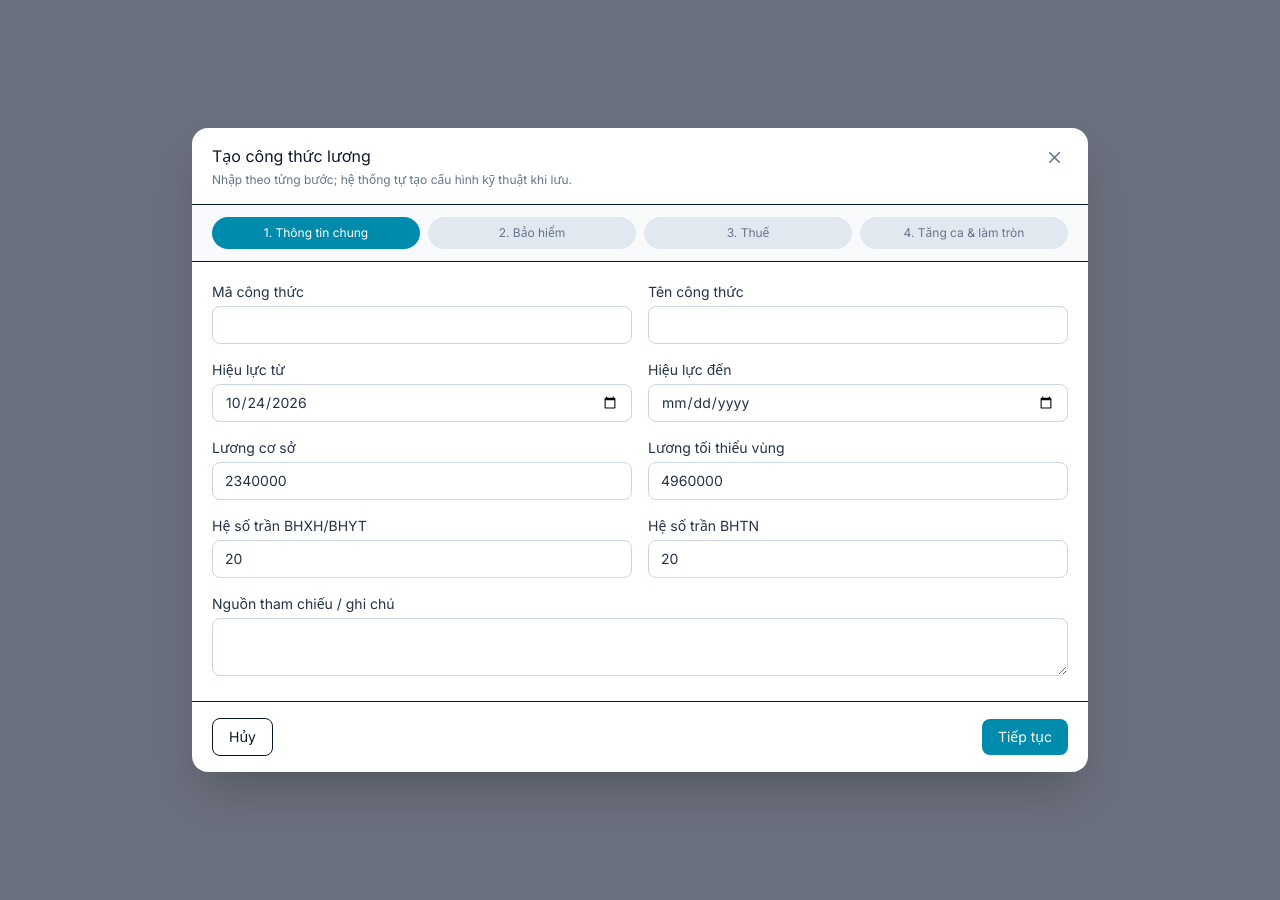
Test: PayrollPolicyFormModal › uses four guided steps and blocks invalid navigation
expect the button "1. Thông tin chung" is shown: met, box [212,217,420,249]
expect the button "4. Tăng ca & làm tròn" is shown: met, box [860,217,1068,249]
Click the button "Tiếp tục": (1025, 737) [982,719,1068,755]
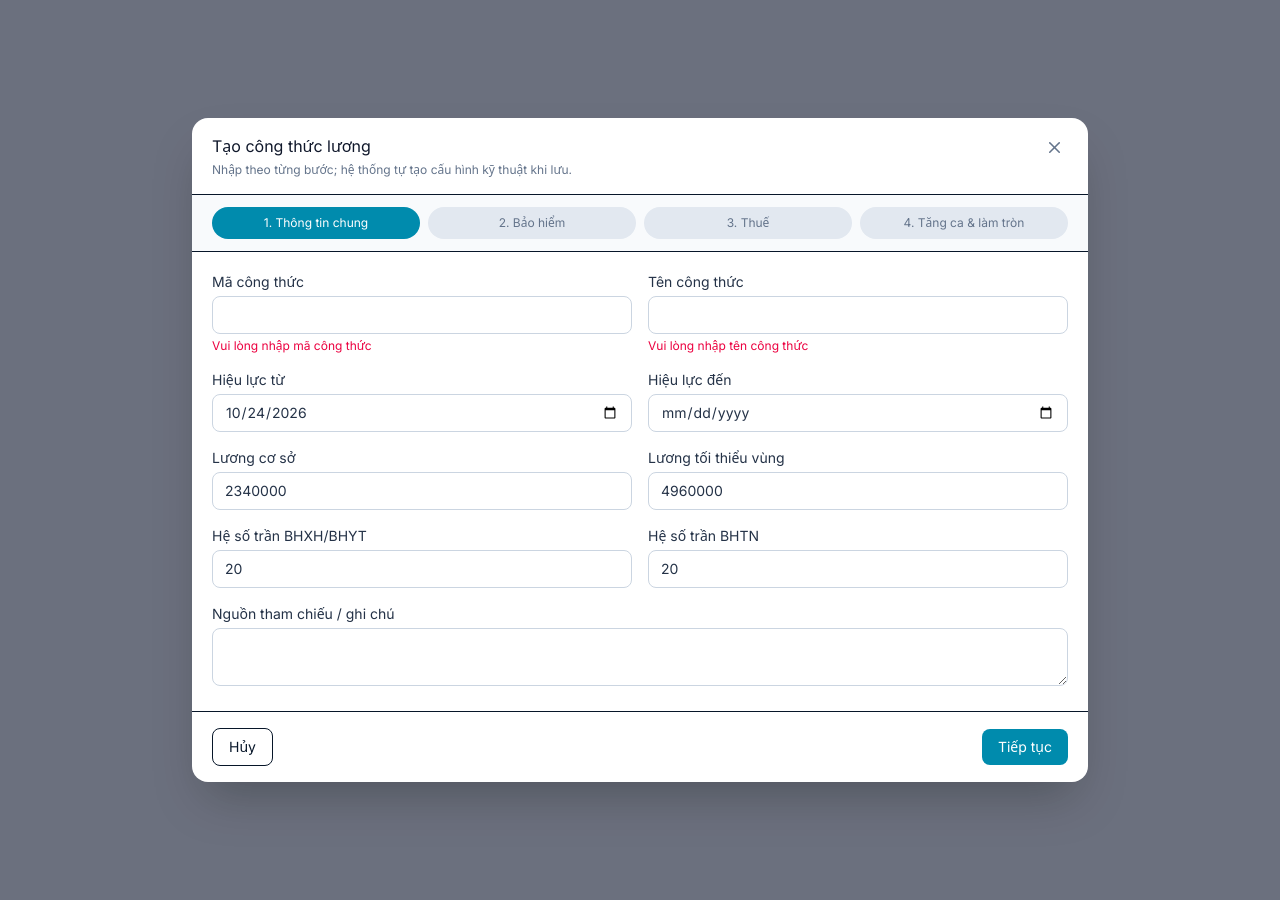
expect the field labelled "Mã công thức" is shown: met, box [212,296,632,334]
expect the text "Vui lòng nhập mã công thức" is shown: met, box [212,338,372,353]
